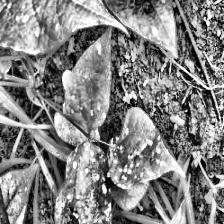Bean Rust: (0, 0, 131, 51), (107, 108, 185, 189), (66, 26, 112, 130), (100, 0, 179, 58), (65, 140, 118, 224), (129, 177, 195, 224)
